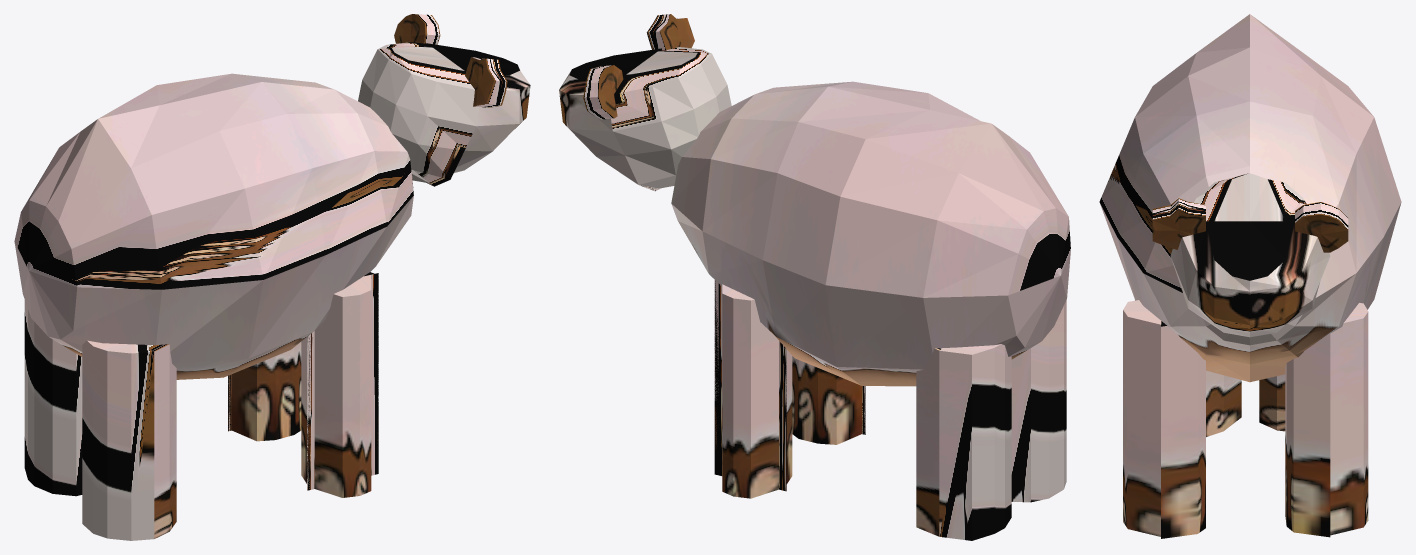
The model's file is Bear.glb.
3 renders of one model, left to right at view 1: azimuth 30°, elevation 25°; view 2: azimuth 150°, elevation 25°; view 3: azimuth 270°, elevation 25°, orthographic. The views are drawn at different scales.
Parts seen in each view (by area): view 1: Bear; view 2: Bear; view 3: Bear.
Part boxes in pixels (bbox=[...]): Bear: bbox=[14, 14, 530, 540]; Bear: bbox=[559, 14, 1070, 540]; Bear: bbox=[1099, 14, 1401, 538].
Bounding box in the file's own units: 150 × 112 × 75.6.
Materials: 1 (1 with a texture image).
